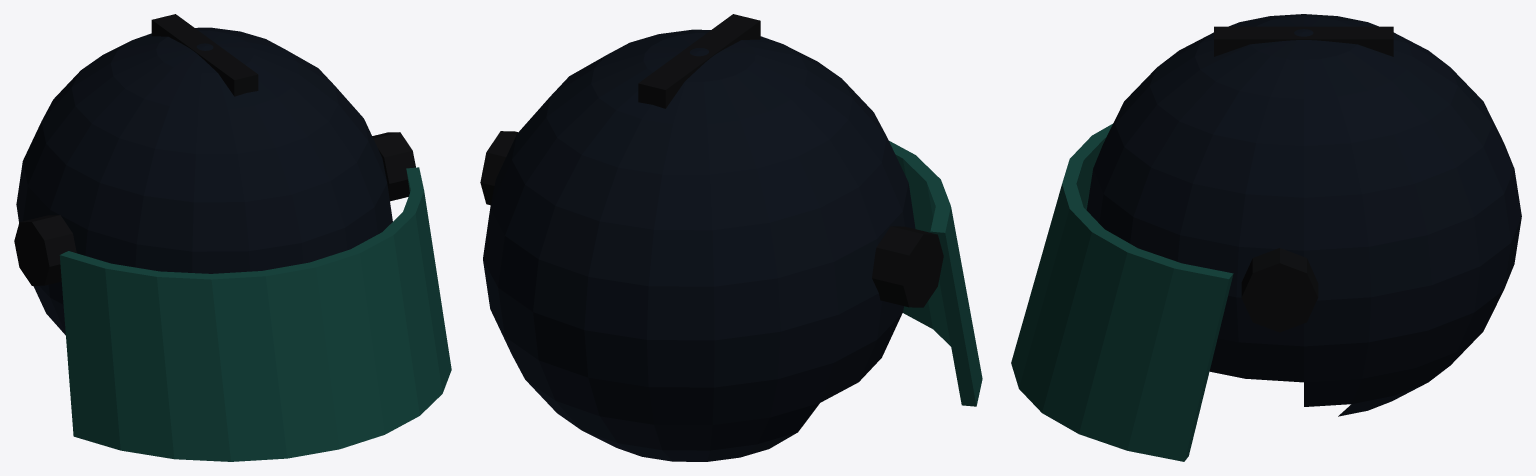
Rendered from riot-helmet.glb.
The picture shows the model from 3 angles, left to right: view 1: azimuth 30°, elevation 25°; view 2: azimuth 150°, elevation 25°; view 3: azimuth 270°, elevation 25°; orthographic projection. The views are drawn at different scales.
Visible parts, largest first — view 1: riot-helmet; view 2: riot-helmet; view 3: riot-helmet.
Boxes of the visible parts, x1,y1,x2,y2 form: riot-helmet: (14,14,451,461); riot-helmet: (480,14,982,461); riot-helmet: (1011,14,1521,461).
Bounding box in the file's own units: 0.3907 × 0.3172 × 0.4263.
1 material, 1 textured.
